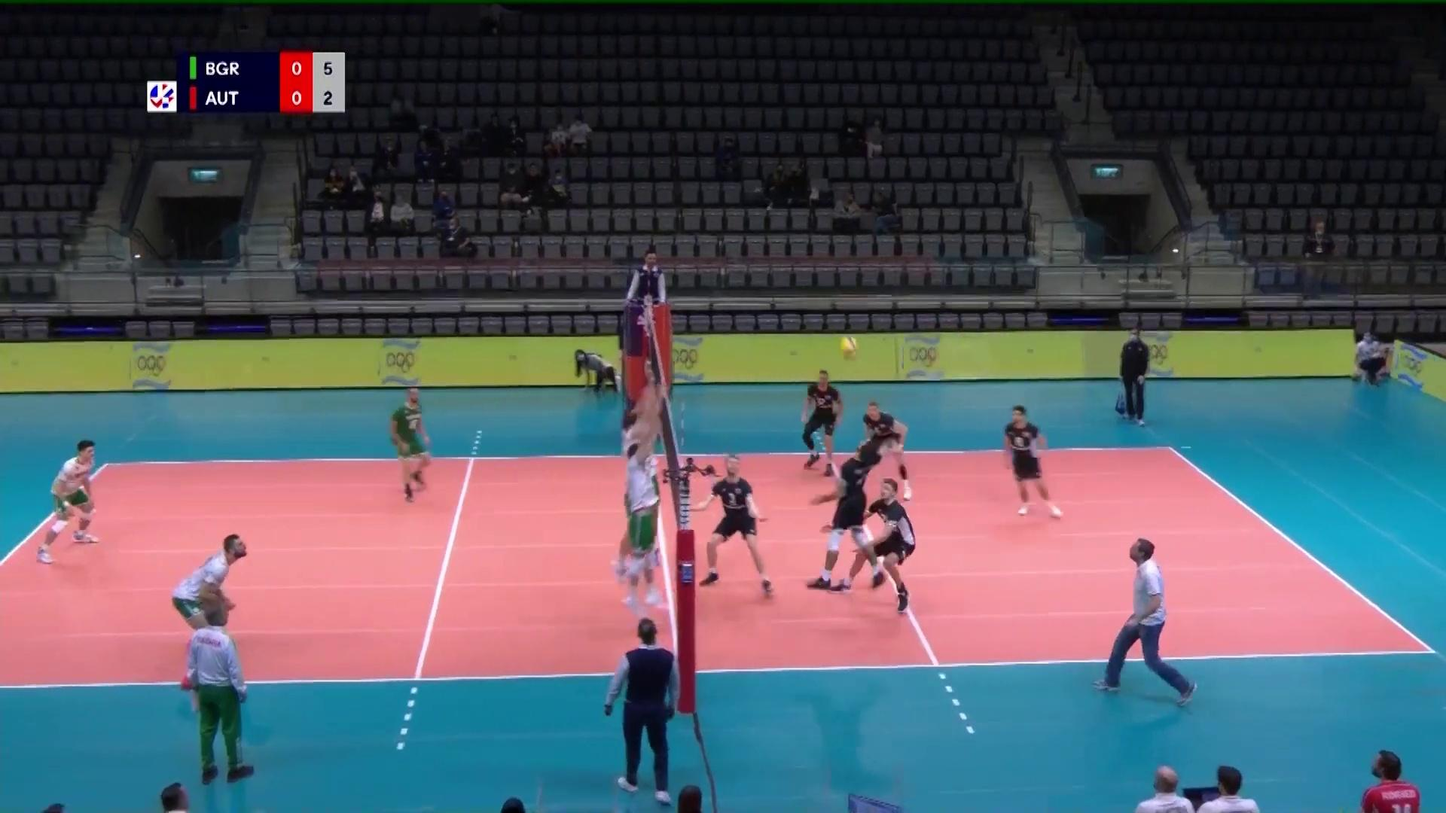ball: (842, 335, 859, 359)
